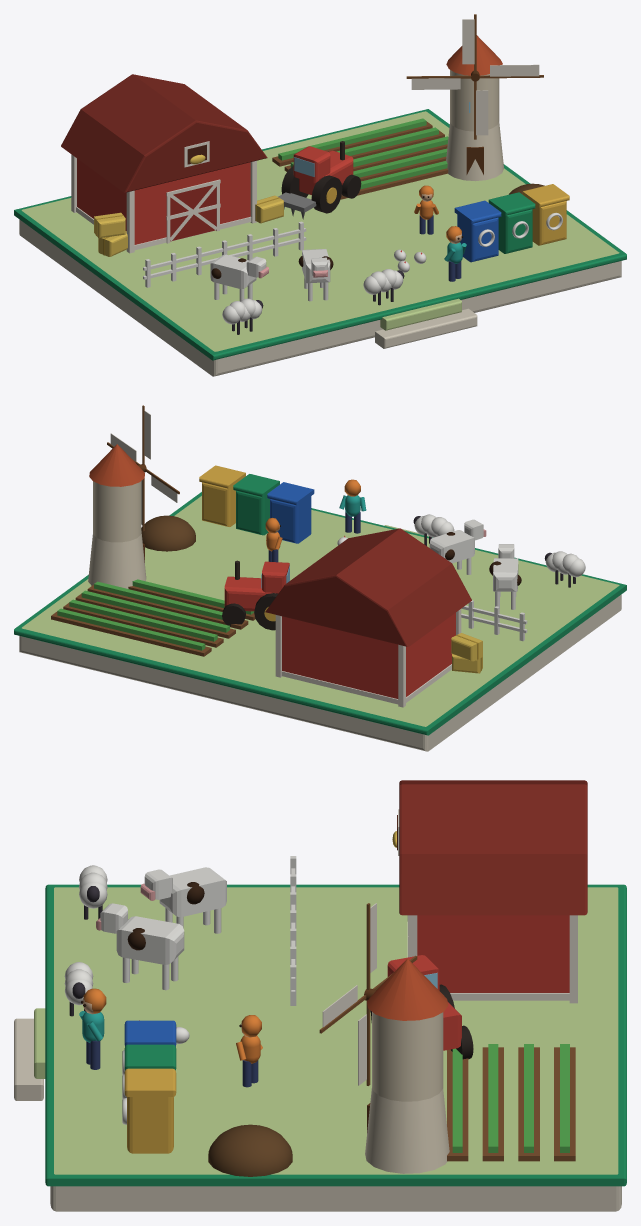
The model's file is farm.glb.
3 views of the same model, one above another, from view 1: azimuth 30°, elevation 25°; view 2: azimuth 150°, elevation 25°; view 3: azimuth 270°, elevation 25° (orthographic). The views are drawn at different scales.
Parts seen in each view (by area): view 1: part_000, part_001, part_003, part_006, part_004; view 2: part_000, part_001, part_003, part_006, part_004; view 3: part_000, part_001, part_003, part_004, part_006.
Boxes of the visible parts, x1,y1,x2,y2 form: part_000: (14,109,626,376); part_001: (61,74,283,256); part_003: (446,35,503,181); part_006: (278,141,361,219); part_004: (406,14,543,139); part_000: (14,465,626,751); part_001: (265,528,482,707); part_003: (88,444,146,588); part_006: (222,560,289,630); part_004: (107,405,179,531); part_000: (14,856,626,1211); part_001: (392,780,587,1003); part_003: (365,958,449,1173); part_004: (319,903,417,1085); part_006: (370,955,473,1059).
Bounding box in the file's own units: 10.01 × 4.35 × 8.58.
